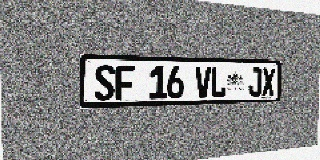1: (149, 66, 167, 99)
6: (167, 66, 184, 99)
F: (115, 65, 134, 100)
J: (248, 67, 262, 96)
L: (211, 67, 226, 97)
S: (94, 65, 115, 101)
V: (195, 67, 211, 98)
X: (262, 68, 275, 96)
